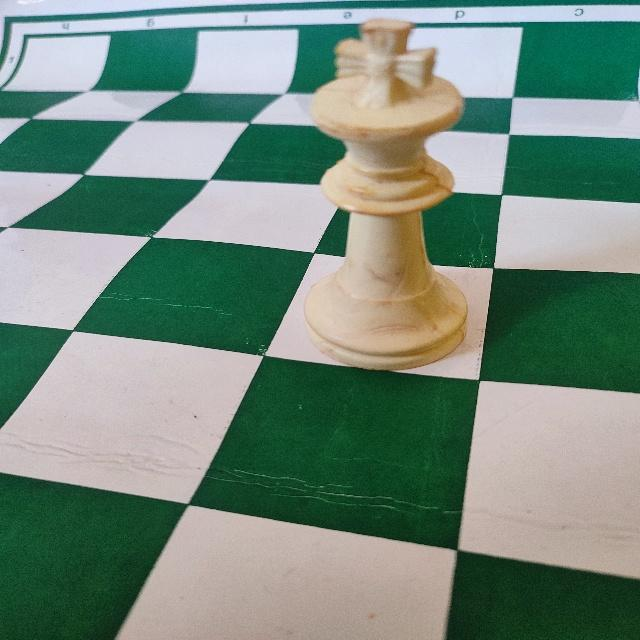King: (299, 13, 472, 373)
